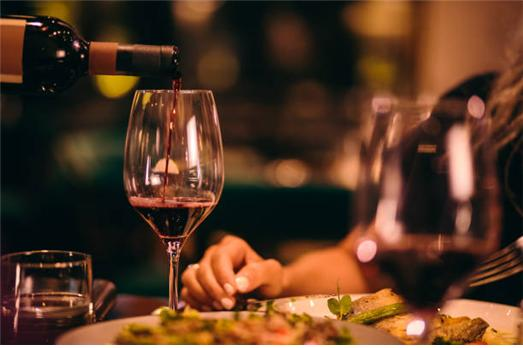alcohol: (354, 92, 501, 341), (122, 86, 221, 313), (0, 12, 182, 110), (2, 250, 97, 339)
